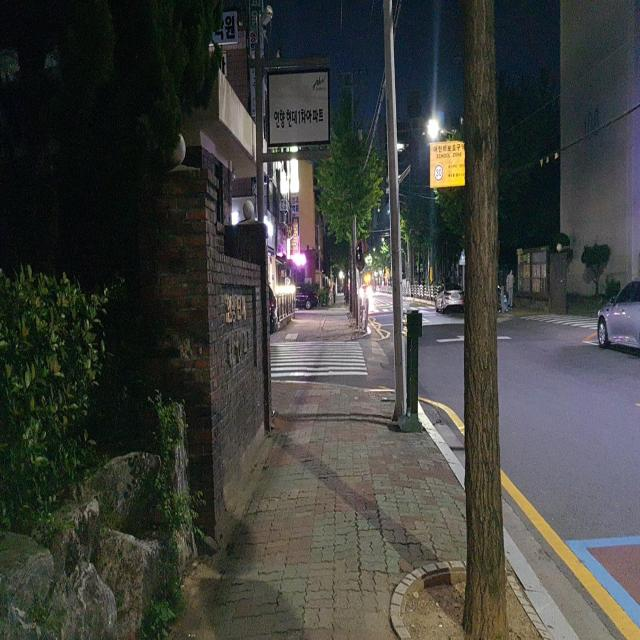횡단보도: (269, 340, 368, 378)
